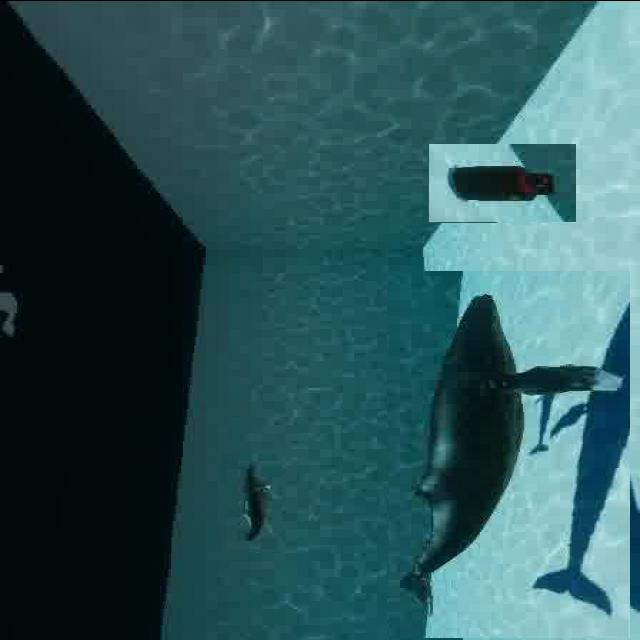Cylinder: (428, 143, 576, 222)
Whale: (387, 270, 630, 637), (222, 453, 284, 551)
